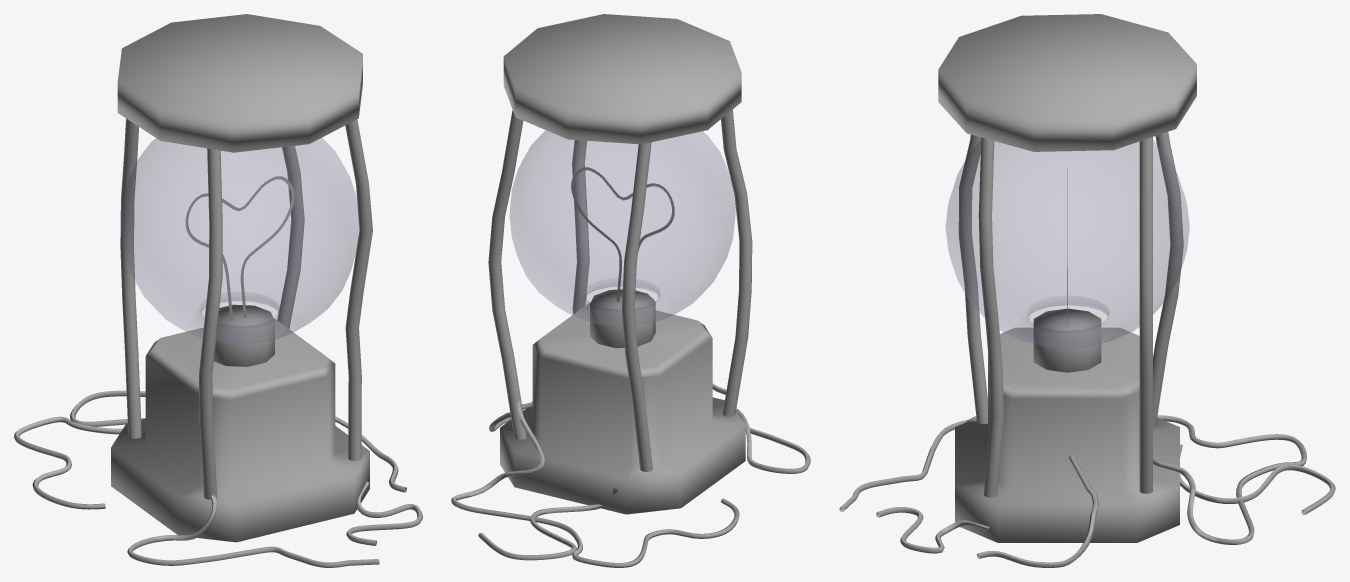
Rendered from objectif.fbx.
3 views of the same model, side by side, from view 1: azimuth 30°, elevation 25°; view 2: azimuth 150°, elevation 25°; view 3: azimuth 270°, elevation 25° (orthographic). The views are drawn at different scales.
Parts seen in each view (by area): view 1: pCube4; view 2: pCube4; view 3: pCube4.
Part boxes in pixels (left/top/right/bottom): pCube4: left=14, top=14, right=422, bottom=567; pCube4: left=451, top=14, right=810, bottom=567; pCube4: left=839, top=14, right=1335, bottom=567.
Bounding box in the file's own units: 259 × 351 × 365.
